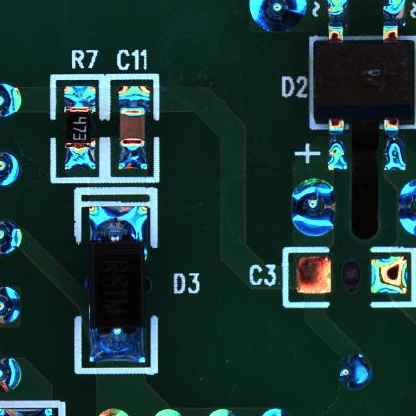spot: (291, 177, 338, 237), (336, 353, 373, 391)
